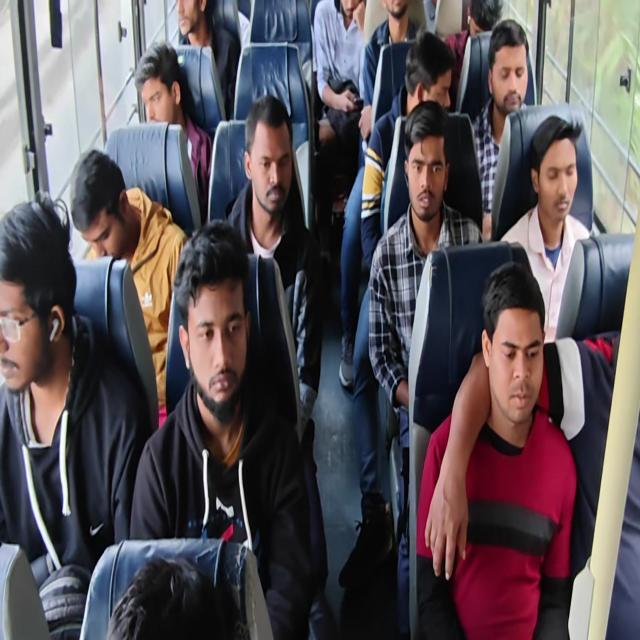person: (1, 1, 635, 638), (452, 114, 637, 637), (128, 219, 314, 638), (0, 191, 150, 638), (366, 100, 484, 634), (415, 260, 577, 638), (339, 26, 454, 390), (224, 93, 323, 436), (70, 148, 189, 428), (498, 114, 591, 344), (134, 42, 212, 220), (470, 18, 529, 240), (312, 0, 367, 223), (106, 555, 247, 639), (358, 0, 426, 159), (176, 0, 240, 119), (444, 0, 502, 106)
